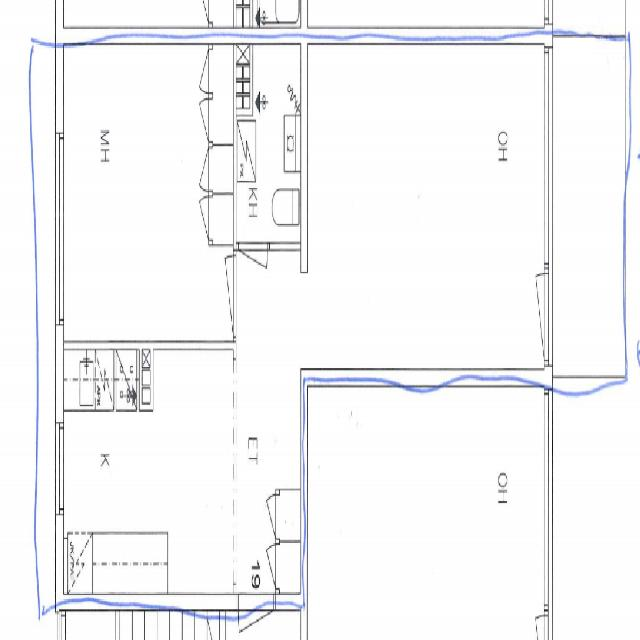door: (510, 274, 552, 360), (200, 256, 236, 336), (238, 243, 267, 322)
